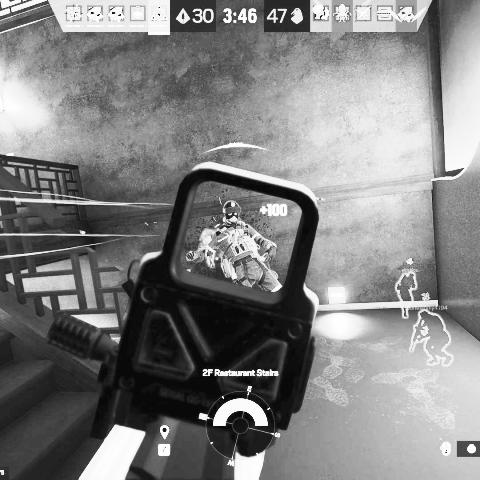Character: (184, 199, 283, 292)
Friend_label: (403, 292, 448, 312), (401, 257, 418, 273)
Head: (222, 200, 241, 226)
